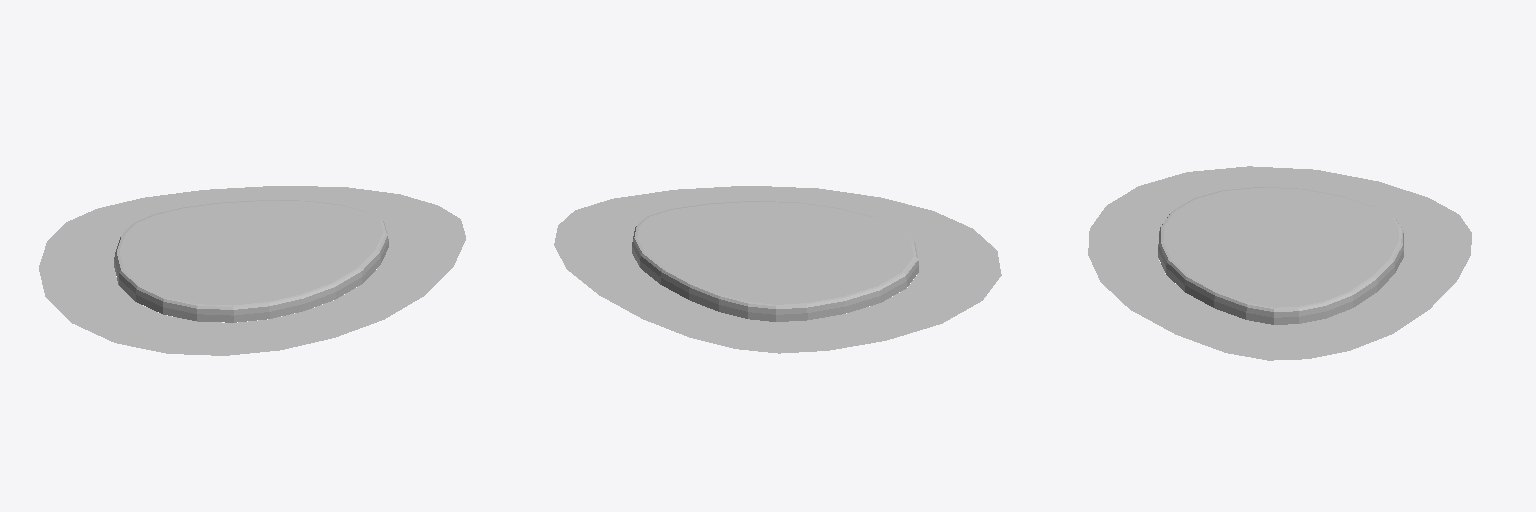
3 renders of one model, left to right at view 1: azimuth 30°, elevation 25°; view 2: azimuth 150°, elevation 25°; view 3: azimuth 270°, elevation 25°, orthographic.
Parts seen in each view (by area): view 1: 6_foam_Curve.022, 6_Curve.026; view 2: 6_foam_Curve.022, 6_Curve.026; view 3: 6_foam_Curve.022, 6_Curve.026.
Boxes of the visible parts, x1=… form: 6_foam_Curve.022: x1=39, y1=186, x2=465, y2=355; 6_Curve.026: x1=114, y1=200, x2=388, y2=322; 6_foam_Curve.022: x1=554, y1=186, x2=1001, y2=353; 6_Curve.026: x1=632, y1=201, x2=918, y2=321; 6_foam_Curve.022: x1=1088, y1=166, x2=1471, y2=360; 6_Curve.026: x1=1158, y1=187, x2=1403, y2=324.
Size of the model in its own units: 26.85 by 0.9671 by 22.4.